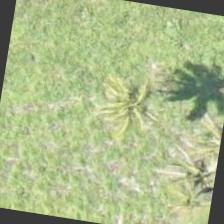Kelapa_Sawit: (83, 59, 186, 162), (147, 125, 221, 223)
